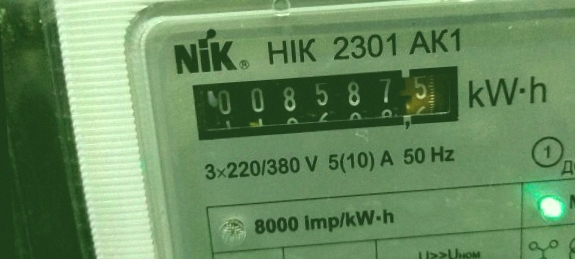0: (214, 85, 233, 115), (248, 84, 267, 113)
5: (412, 72, 431, 102), (312, 79, 331, 108)
7: (376, 73, 395, 105)
8: (344, 77, 363, 108), (280, 83, 298, 112)
screen: (173, 49, 480, 152)
